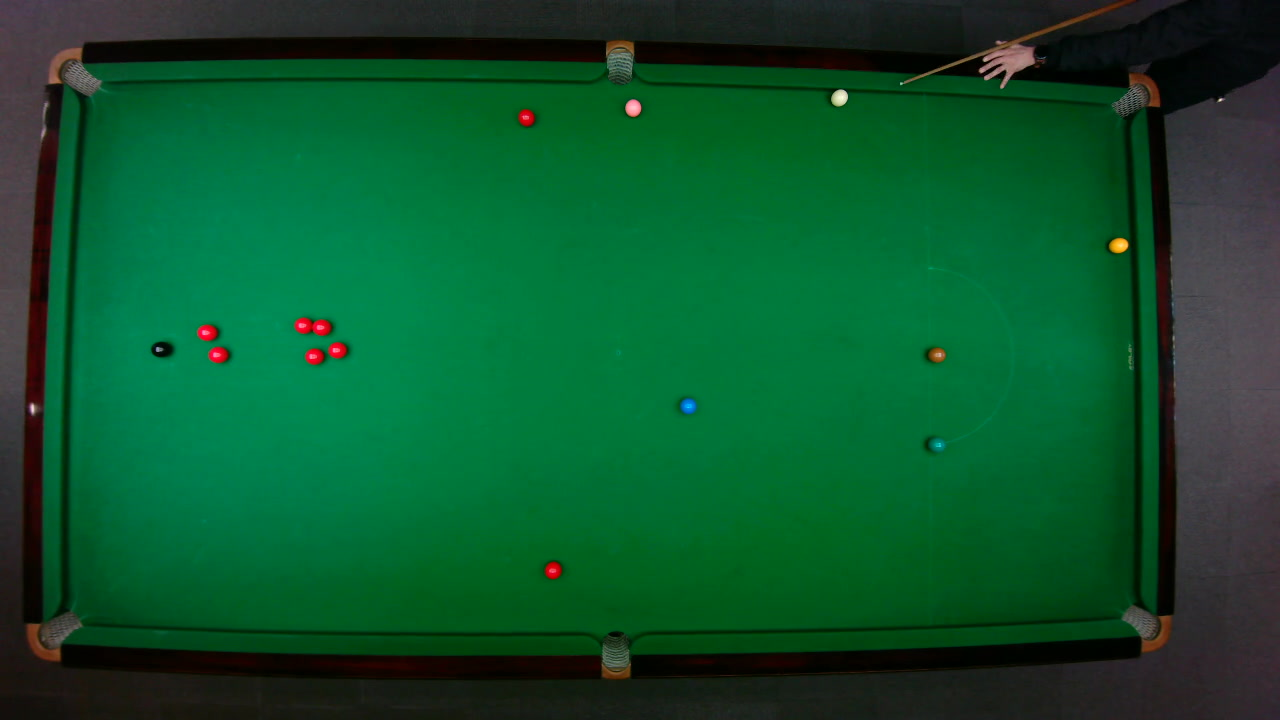bag: (25, 609, 83, 662), (45, 46, 102, 96), (1119, 603, 1171, 652), (1109, 72, 1160, 118), (601, 629, 629, 680), (605, 38, 633, 85)
black: (149, 339, 171, 357)
blue: (678, 396, 696, 414)
brown: (926, 346, 946, 362)
cue: (895, 0, 1134, 85)
green: (926, 435, 946, 453)
pink: (623, 97, 642, 117)
red: (195, 322, 218, 341), (542, 559, 562, 579), (292, 315, 313, 334), (207, 345, 229, 363), (311, 317, 332, 335), (303, 347, 324, 365), (516, 108, 535, 127), (327, 340, 347, 358)
white: (829, 87, 848, 106)
yellow: (1107, 235, 1129, 253)
zone: (926, 265, 1013, 445)
